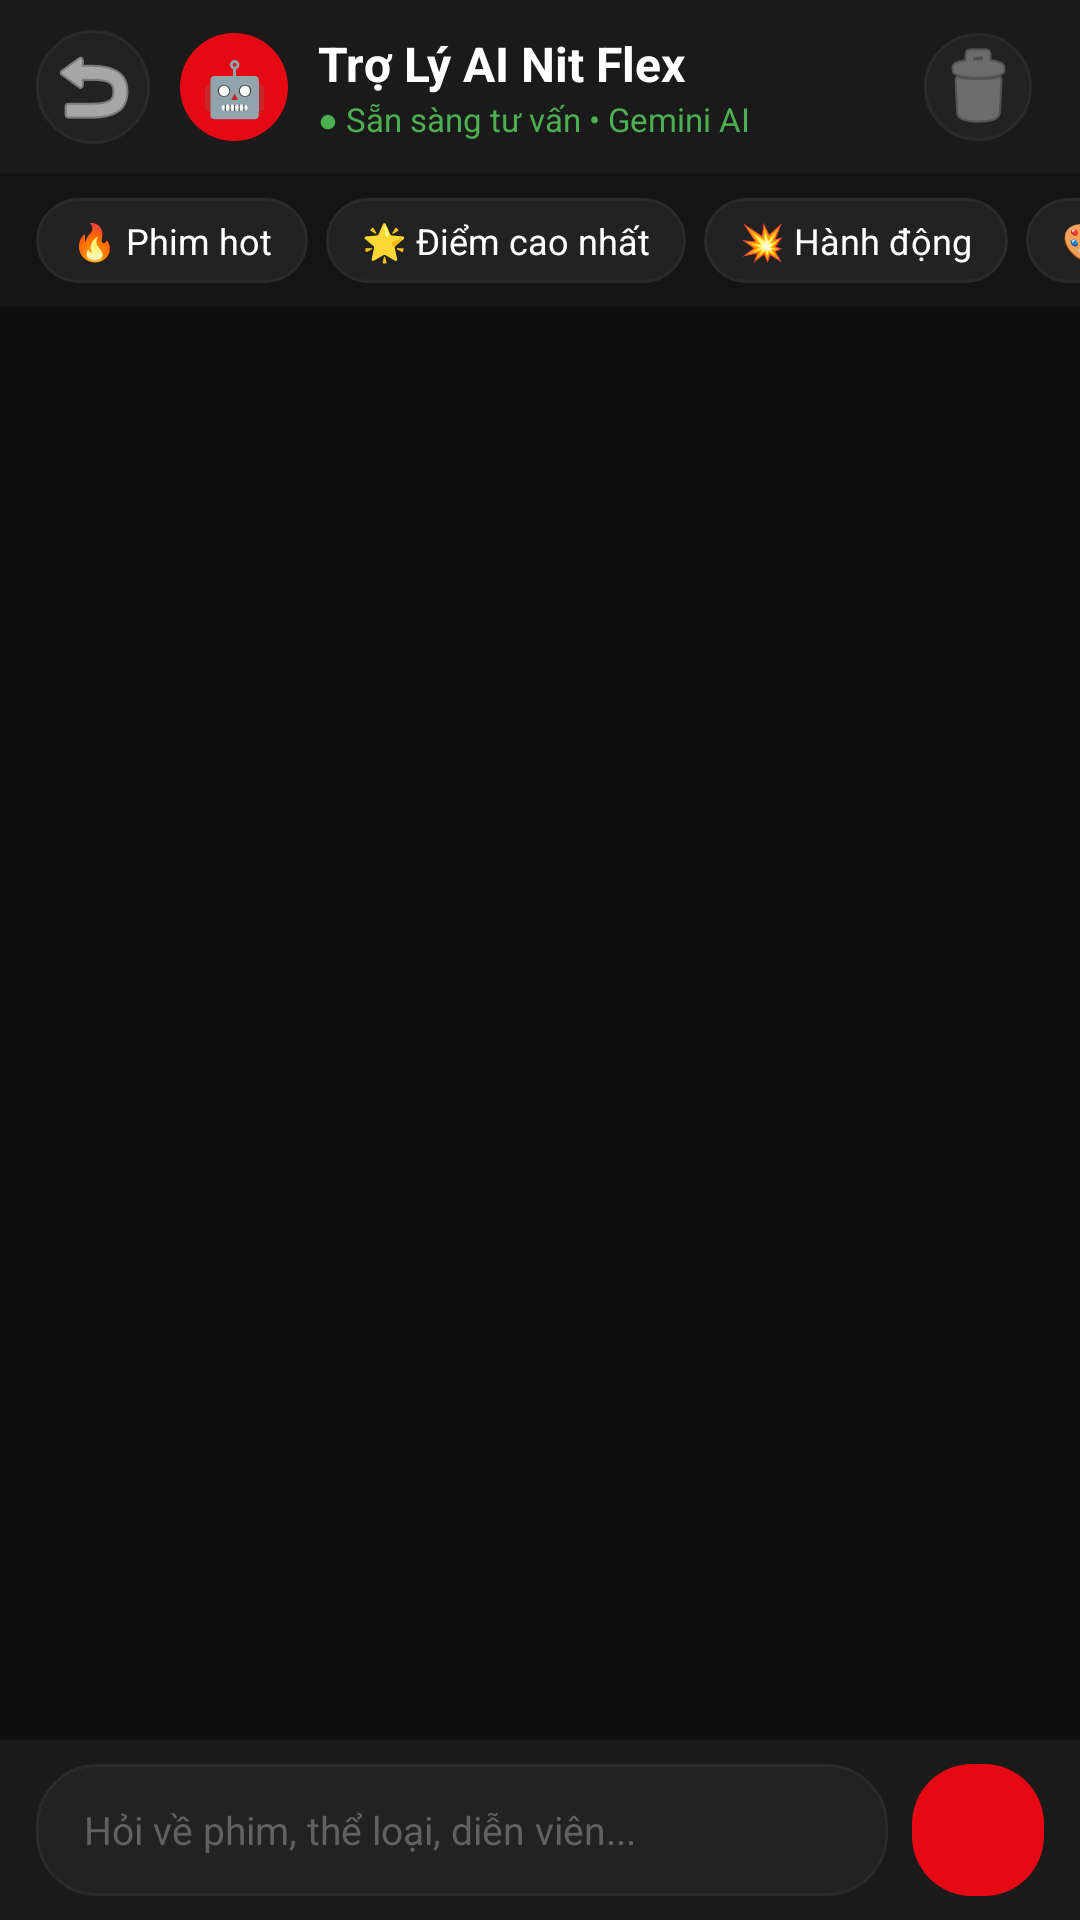

Icon click points for this 1080 x 1920 phone screenshot, format point (x, y):
Quay lại: point (94, 87)
Xóa hội thoại: point (978, 85)
